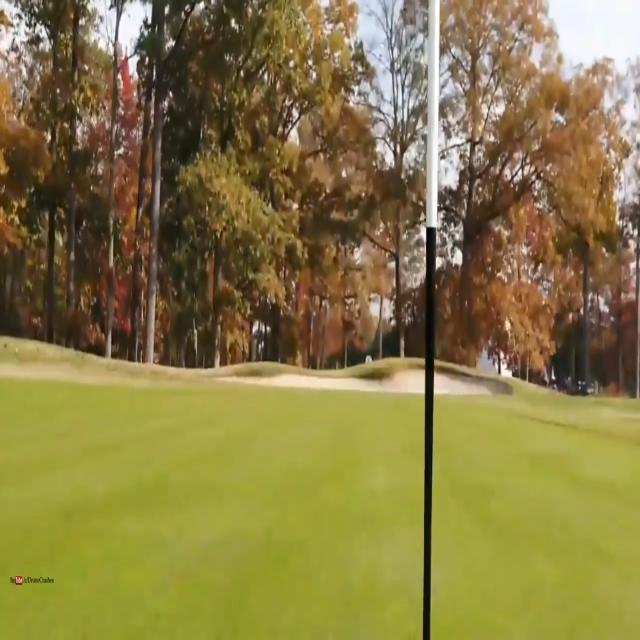Pole: (420, 1, 442, 639)
